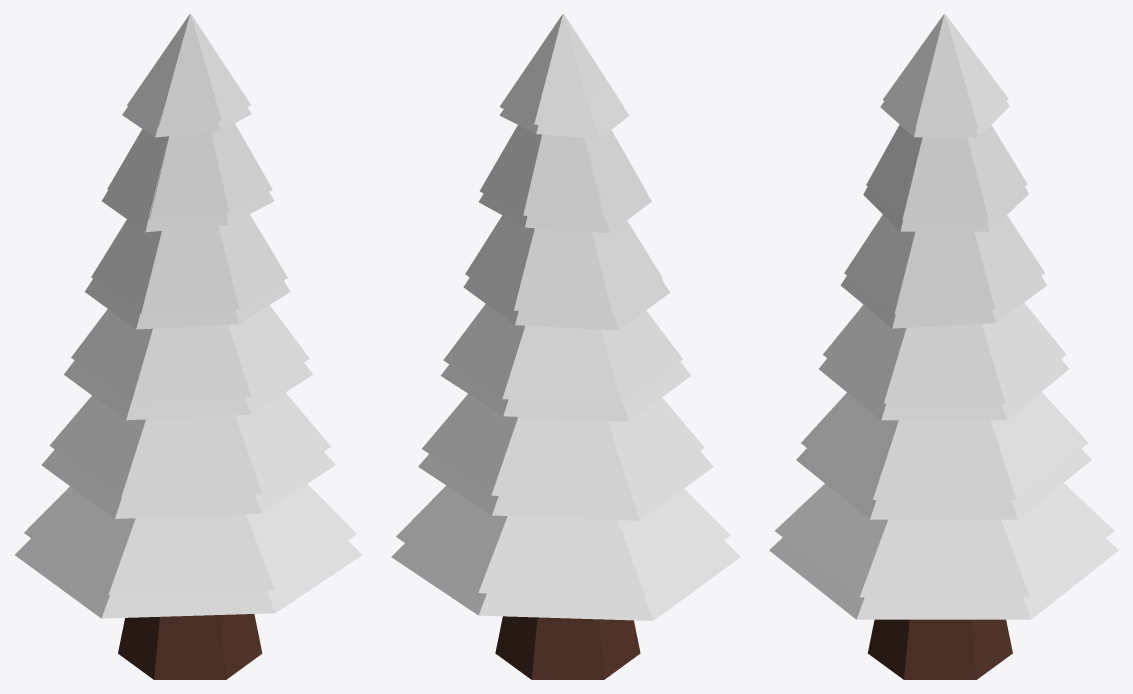
Rendered from fir tree.fbx.
3 views of the same model, side by side, from view 1: azimuth 30°, elevation 25°; view 2: azimuth 150°, elevation 25°; view 3: azimuth 270°, elevation 25° (orthographic).
Visible parts, largest first — view 1: Cylinder.003, Cylinder, Cylinder.001; view 2: Cylinder.003, Cylinder, Cylinder.001; view 3: Cylinder.003, Cylinder, Cylinder.001.
Part boxes in pixels (left/top/right/bottom): Cylinder.003: left=24, top=14, right=356, bottom=594; Cylinder: left=15, top=83, right=361, bottom=618; Cylinder.001: left=118, top=614, right=262, bottom=679; Cylinder.003: left=396, top=14, right=730, bottom=597; Cylinder: left=391, top=85, right=740, bottom=620; Cylinder.001: left=495, top=616, right=640, bottom=679; Cylinder.003: left=775, top=14, right=1114, bottom=597; Cylinder: left=769, top=101, right=1118, bottom=619; Cylinder.001: left=867, top=619, right=1012, bottom=679.
Bounding box in the file's own units: 168 × 391 × 194.
